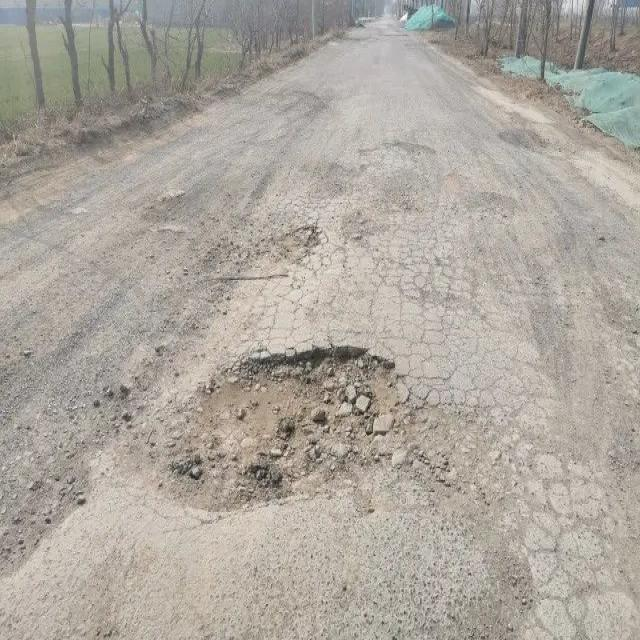Pothole: (164, 346, 413, 514), (277, 223, 330, 268)
